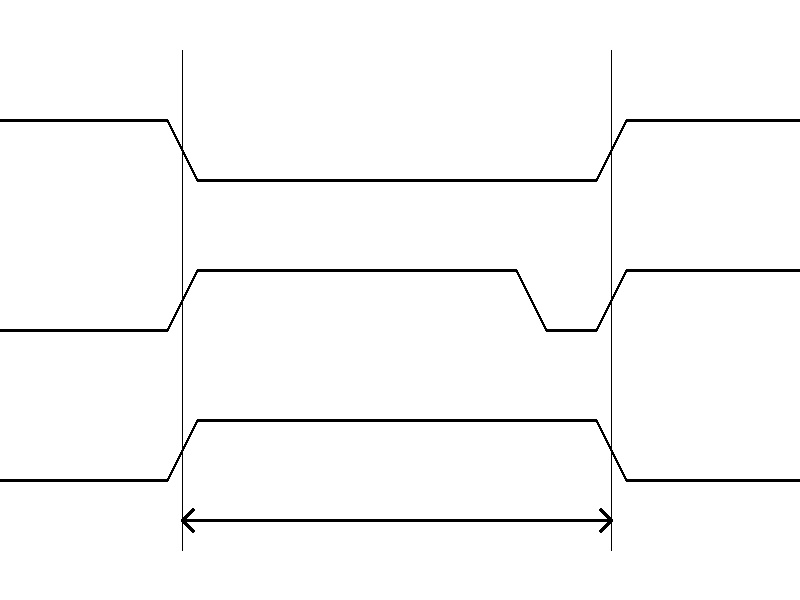double_arrow: (182, 505, 611, 535)
